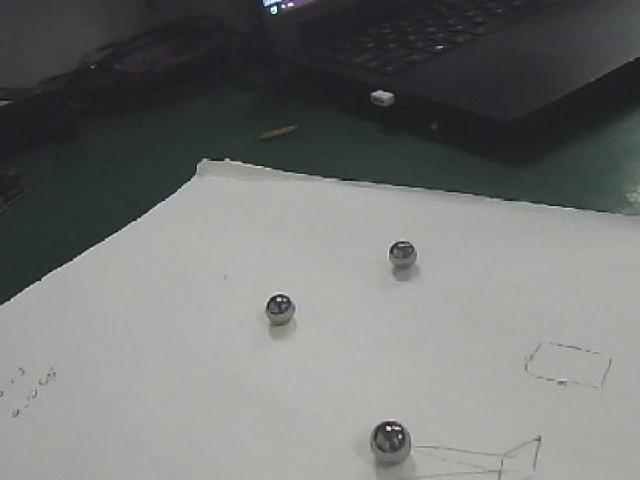steel-ball: (346, 388, 422, 468), (248, 282, 304, 332), (382, 223, 431, 268)
